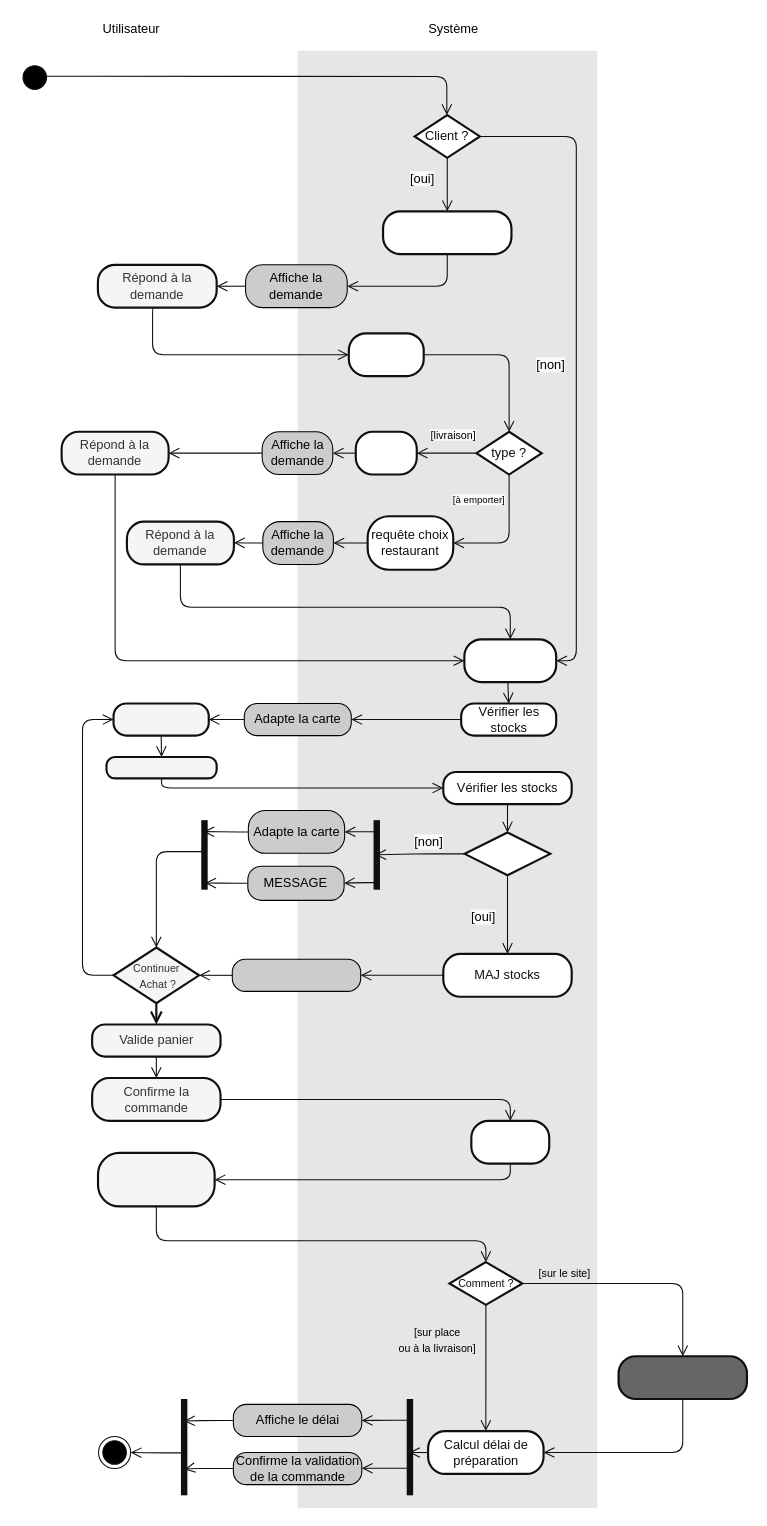
The diagram is 767 pixels wide and 1526 high, and some of its shapes have lost their labels. Here are the shapes that lost their labels. From the top down, the box of each, then its label:
(381, 210, 512, 255): Requête livraison ou à emporter
(347, 332, 424, 377): Procede
(354, 430, 417, 475): requête adresse
(463, 638, 557, 683): Selection du restaurant
(112, 702, 209, 736): Consulte la carte
(105, 755, 217, 779): Ajoute au panier
(463, 831, 551, 876): stocks ?
(231, 958, 361, 991): Panier à jour
(470, 1119, 550, 1164): requête paiement
(96, 1151, 215, 1207): Donne les instructions de paiement
(617, 1355, 748, 1400): Autorisation du paiement
